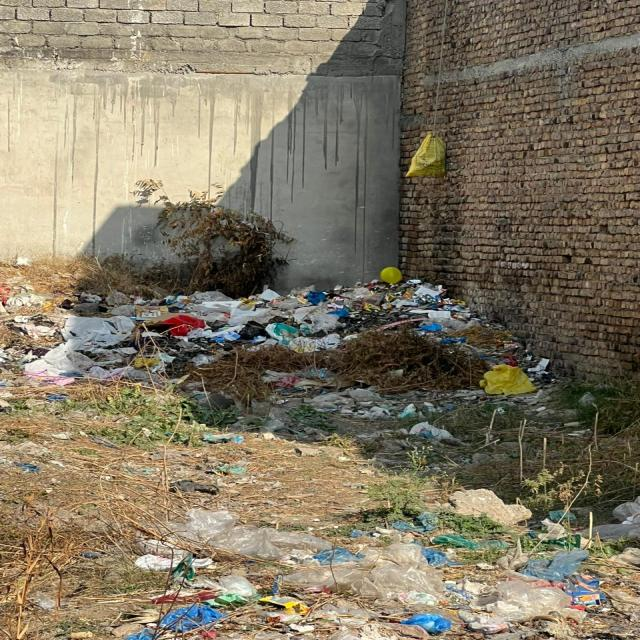garbage: (104, 488, 639, 640), (9, 270, 481, 433)
